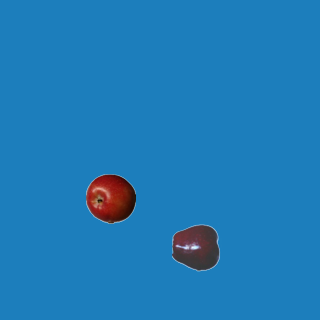Apple Braeburn: (85, 173, 135, 223)
Apple Red Delicious: (171, 222, 221, 272)
